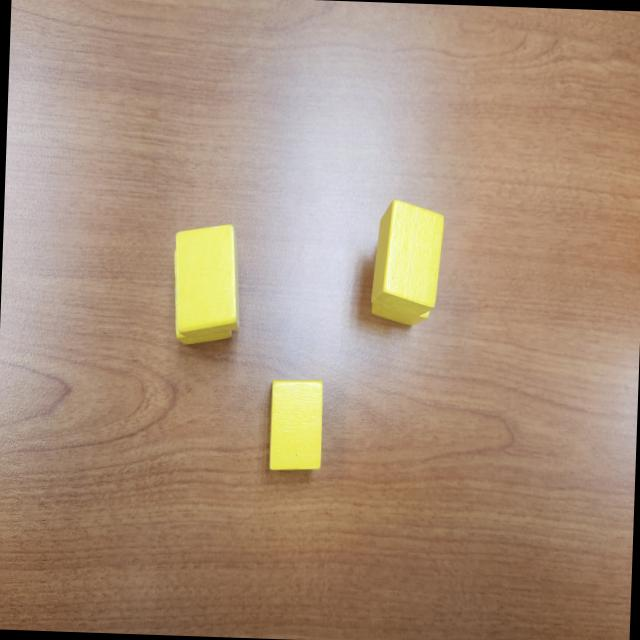yellow: (370, 200, 446, 318), (172, 222, 245, 336), (172, 258, 236, 348), (370, 239, 434, 329), (268, 378, 325, 471)
